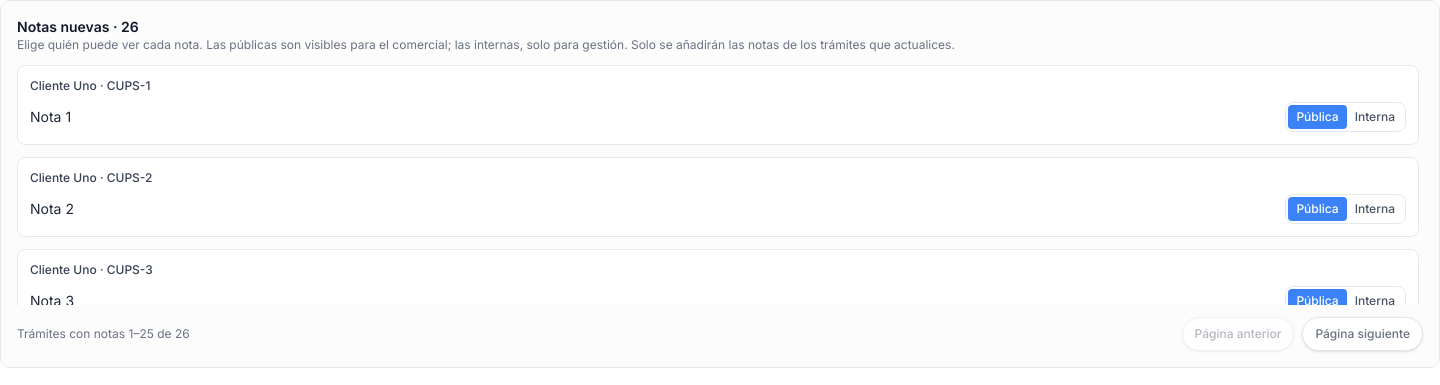
Test: revisión de notas importadas › pagina los trámites con notas para mantener la revisión manejable
The image size is (1440, 385).
Expected: the text "Nota 26" is not shown
Click the button "Página siguiente" at (1363, 334), box [1302, 317, 1423, 351]
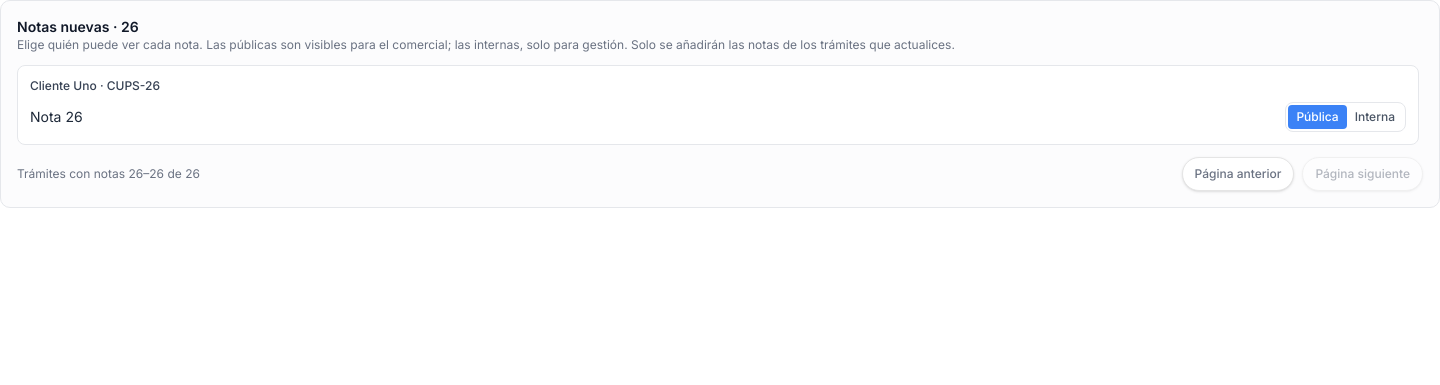
Result: the text "Nota 26" is shown at [30, 108, 83, 125]
Result: the text "Nota 1" is gone
